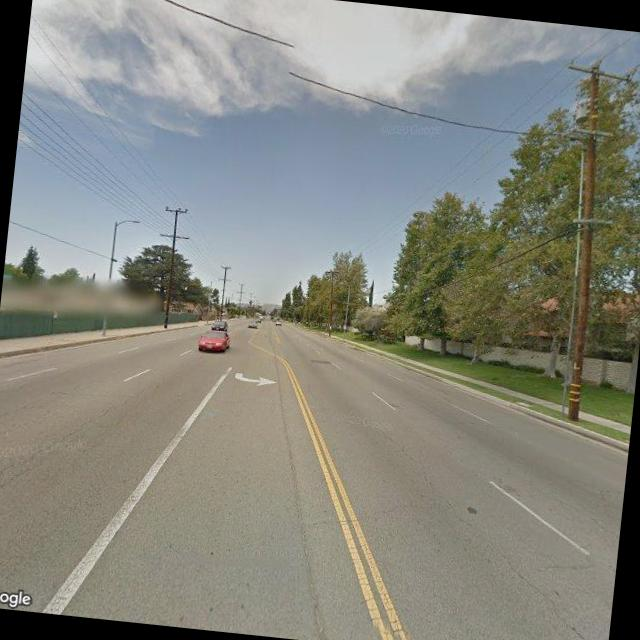crack: (379, 441, 610, 640), (310, 488, 434, 538)
